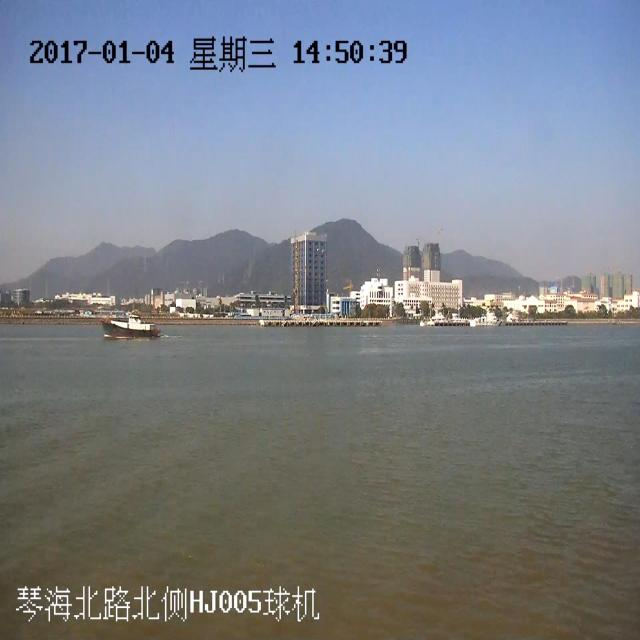cargoship: (92, 296, 162, 348)
